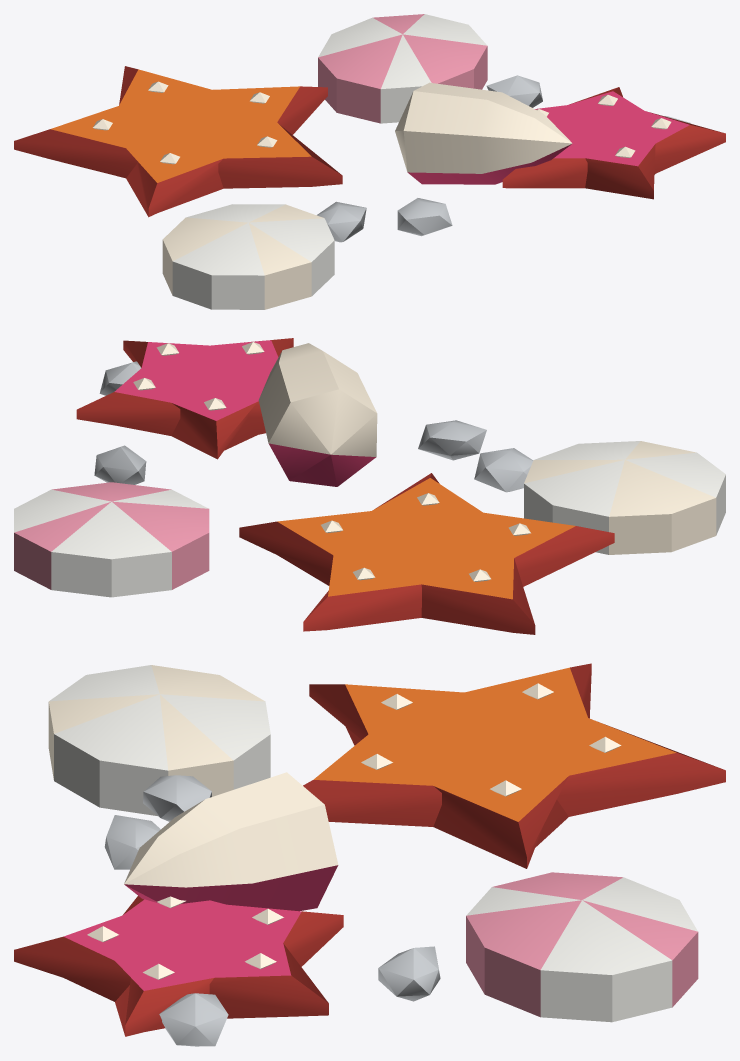
File: Conchas.fbx
The picture shows the model from 3 angles, top to bottom: view 1: azimuth 30°, elevation 25°; view 2: azimuth 150°, elevation 25°; view 3: azimuth 270°, elevation 25°; orthographic projection. The views are drawn at different scales.
Visible parts, largest first — view 1: Conchas; view 2: Conchas; view 3: Conchas.
Part boxes in pixels (x1,y1,x2,y2): Conchas: [14, 14, 725, 309]; Conchas: [14, 338, 725, 634]; Conchas: [14, 663, 725, 1046].
Bounding box in the file's own units: 2.64 × 0.5435 × 2.19.
1 material, 1 textured.
